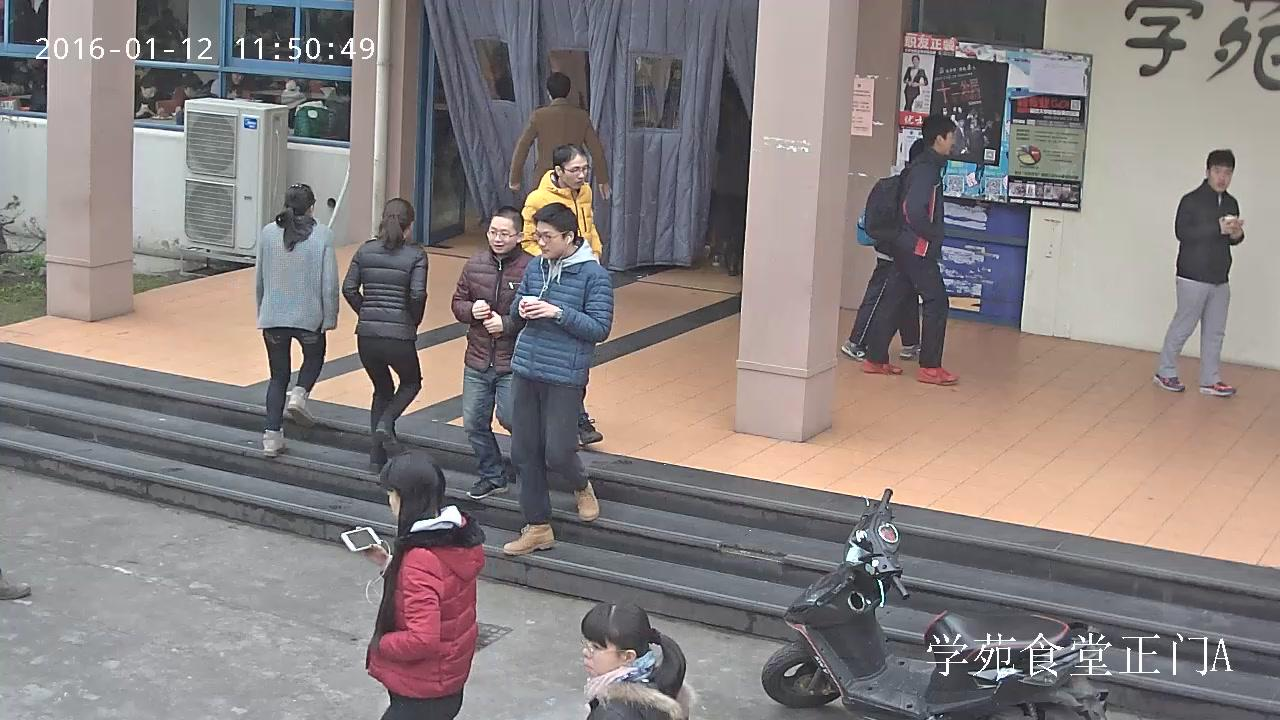person: (501, 202, 614, 557), (340, 449, 485, 720), (860, 114, 957, 384), (520, 143, 603, 446), (451, 206, 534, 499), (341, 198, 429, 468), (254, 183, 337, 457), (1154, 149, 1244, 397), (841, 138, 931, 362), (575, 600, 696, 720), (509, 71, 613, 207), (708, 81, 751, 278), (281, 80, 337, 138), (174, 73, 217, 120), (902, 54, 928, 112), (133, 73, 161, 119)
